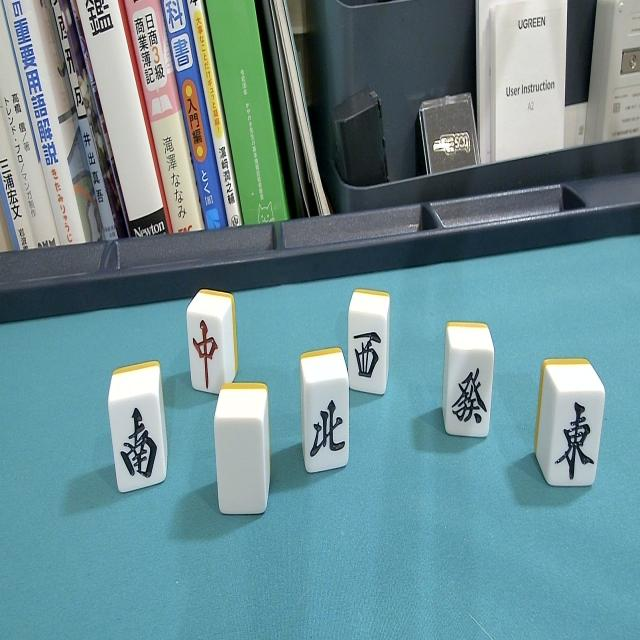chun: (185, 288, 238, 403)
haku: (213, 374, 273, 530)
hatsu: (440, 319, 496, 450)
nan: (107, 358, 169, 504)
pe-: (298, 344, 352, 486)
sya-: (346, 286, 392, 404)
ton: (538, 351, 604, 500)
